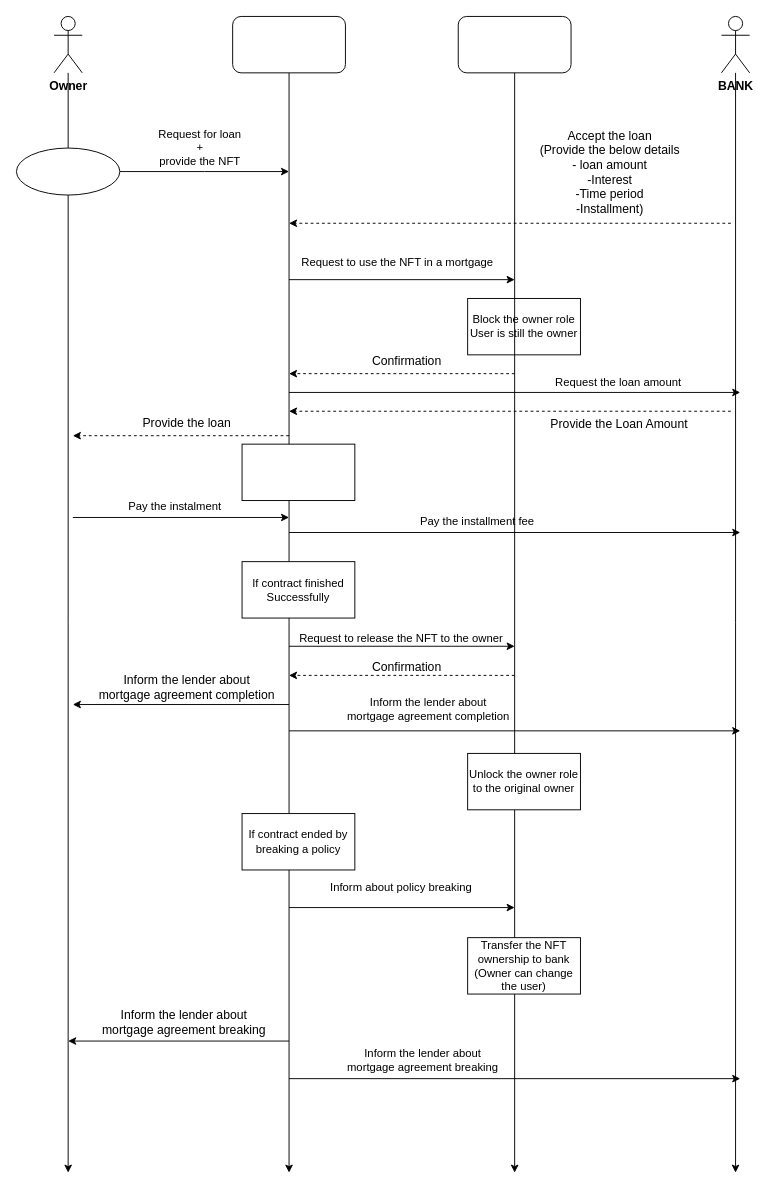
Some shapes in this 770 by 1197 pixel diagram are drawn without their labels. Each missing label, with the centre of its shape:
"If contract continue without issue" goes at point 298,472.
"Mortgage Platform" goes at point 288,44.
"NFT" goes at point 68,171.
"NFT Contract" goes at point 514,44.
